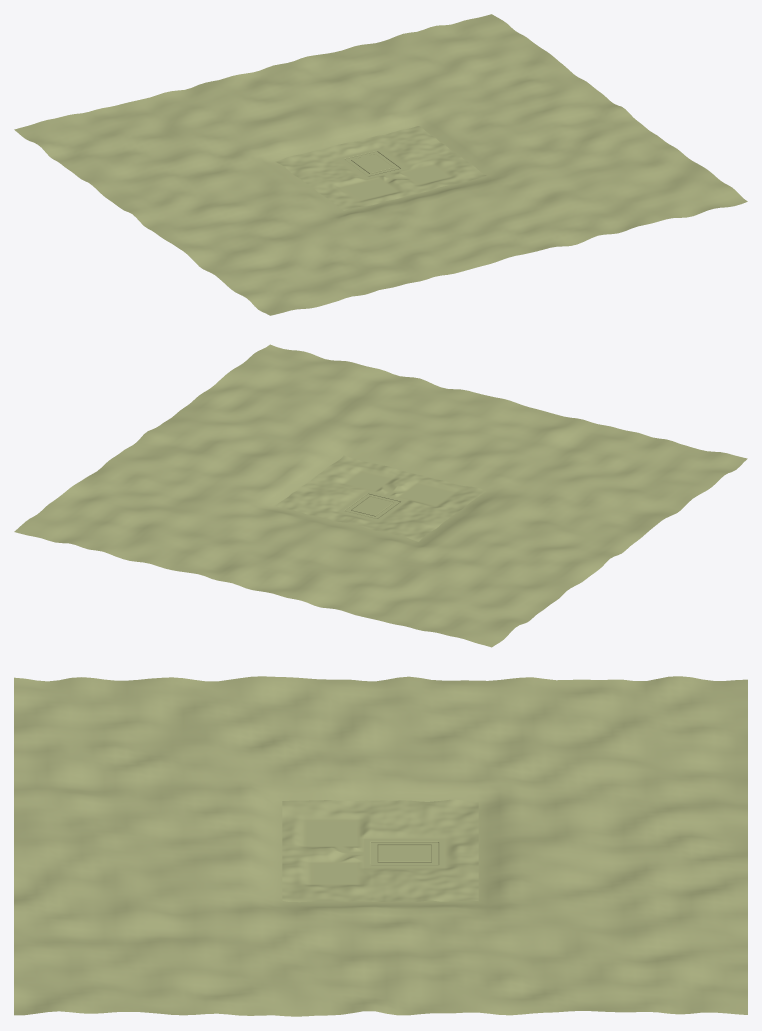
File: medieval_terrain.fbx
3 renders of one model, top to bottom at view 1: azimuth 30°, elevation 25°; view 2: azimuth 150°, elevation 25°; view 3: azimuth 270°, elevation 25°, orthographic. The views are drawn at different scales.
Visible parts, largest first — view 1: FarHills__Grass, Terrain__Grass; view 2: FarHills__Grass, Terrain__Grass; view 3: FarHills__Grass, Terrain__Grass.
Boxes of the visible parts, bbox=[...] form: FarHills__Grass: bbox=[14, 14, 747, 315]; Terrain__Grass: bbox=[275, 126, 486, 210]; FarHills__Grass: bbox=[14, 344, 747, 647]; Terrain__Grass: bbox=[275, 455, 486, 541]; FarHills__Grass: bbox=[14, 676, 747, 1016]; Terrain__Grass: bbox=[282, 799, 478, 902].
Bounding box in the file's own units: 1400 × 36.32 × 1300.
